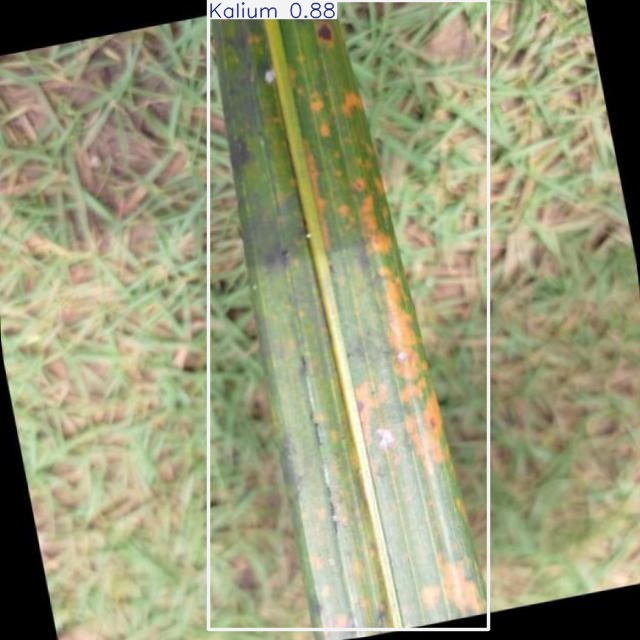Kalium: (208, 1, 488, 630)
